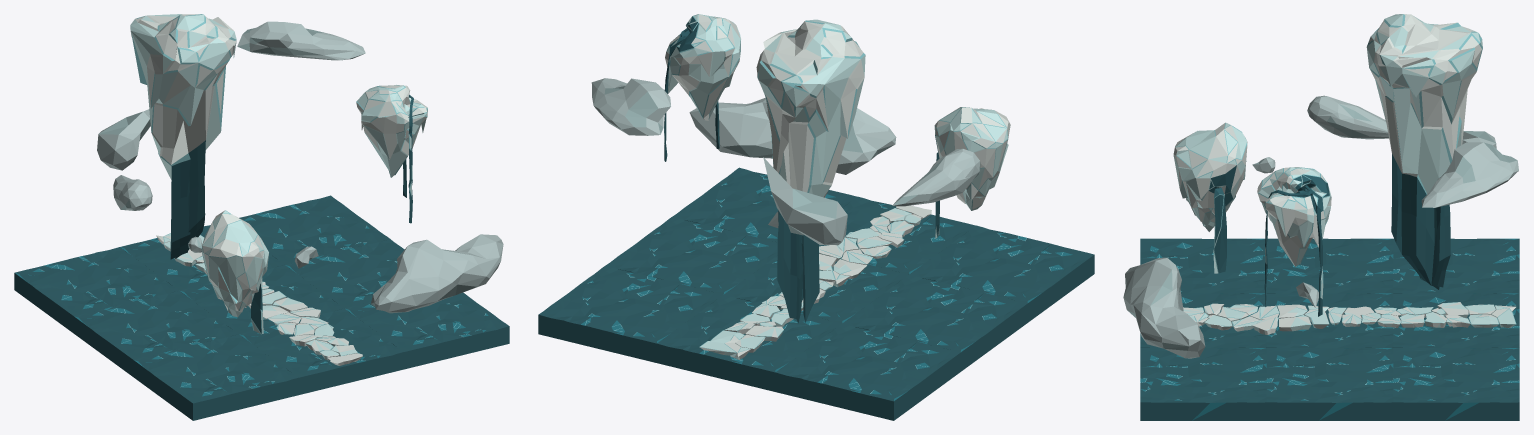
The model's file is ice world.fbx.
3 renders of one model, left to right at view 1: azimuth 30°, elevation 25°; view 2: azimuth 150°, elevation 25°; view 3: azimuth 270°, elevation 25°, orthographic. The views are drawn at different scales.
Visible parts, largest first — view 1: AguaSuelo01, IslaFlotanteHielo03, Nube02, IslaFlotanteHielo02, IslaFlotanteHielo01, Nube01, Nube03, Nube06; view 2: AguaSuelo01, IslaFlotanteHielo03, IslaFlotanteHielo01, Nube02, IslaFlotanteHielo02, Nube01, Nube03, Nube06, Cubo.019; view 3: AguaSuelo01, IslaFlotanteHielo03, IslaFlotanteHielo02, IslaFlotanteHielo01, Nube02, Nube01, Nube06, Cubo.035, Cubo.019, Nube03, Cubo.034, Cubo.020.
Part boxes in pixels (<box>): AguaSuelo01: <box>14,195,509,420</box>; IslaFlotanteHielo03: <box>130,14,236,259</box>; Nube02: <box>371,234,503,313</box>; IslaFlotanteHielo02: <box>201,210,268,334</box>; IslaFlotanteHielo01: <box>356,85,427,223</box>; Nube01: <box>237,21,365,60</box>; Nube03: <box>97,109,150,170</box>; Nube06: <box>113,175,152,210</box>; AguaSuelo01: <box>538,167,1094,420</box>; IslaFlotanteHielo03: <box>756,19,865,323</box>; IslaFlotanteHielo01: <box>664,14,741,161</box>; Nube02: <box>689,97,896,174</box>; IslaFlotanteHielo02: <box>934,107,1010,238</box>; Nube01: <box>591,78,670,135</box>; Nube03: <box>763,157,847,245</box>; Nube06: <box>892,148,980,206</box>; Cubo.019: <box>699,341,751,359</box>; AguaSuelo01: <box>1140,238,1519,420</box>; IslaFlotanteHielo03: <box>1366,14,1482,289</box>; IslaFlotanteHielo02: <box>1173,122,1247,273</box>; IslaFlotanteHielo01: <box>1257,167,1331,316</box>; Nube02: <box>1123,257,1205,358</box>; Nube01: <box>1421,142,1518,207</box>; Nube06: <box>1307,95,1389,139</box>; Cubo.035: <box>1279,315,1311,331</box>; Cubo.019: <box>1491,305,1516,327</box>; Nube03: <box>1462,131,1496,148</box>; Cubo.034: <box>1304,305,1329,328</box>; Cubo.020: <box>1468,314,1499,327</box>.
Bounding box in the file's own units: 1828 × 1496 × 1772.
